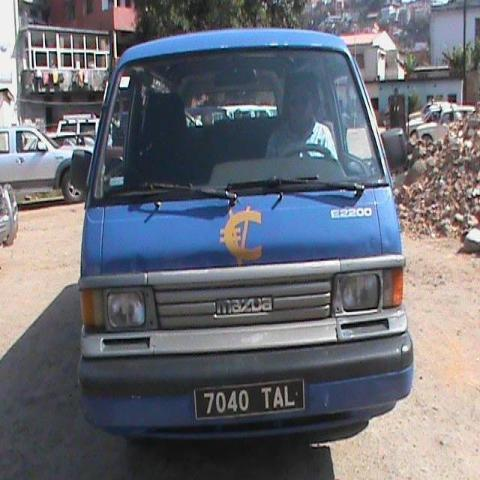van: (83, 28, 415, 465)
